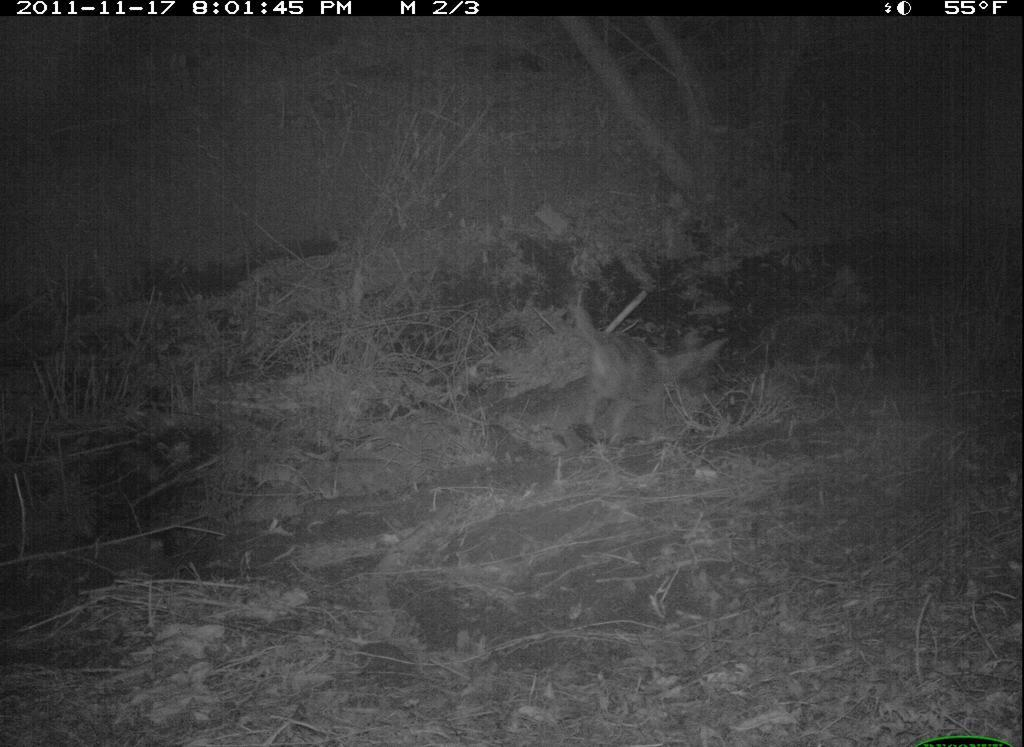coyote: (552, 287, 735, 453)
